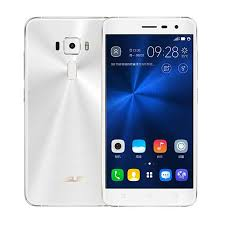asus: (100, 12, 199, 207), (22, 14, 107, 209)
